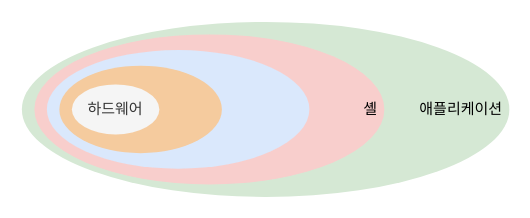
Image size: 530x218. Some labels were removed from this diagram. Here are the shapes that lost their labels. From the top down, the box of each, then its label:
(59, 65, 221, 152): 커널
(46, 49, 309, 168): 운영체제
